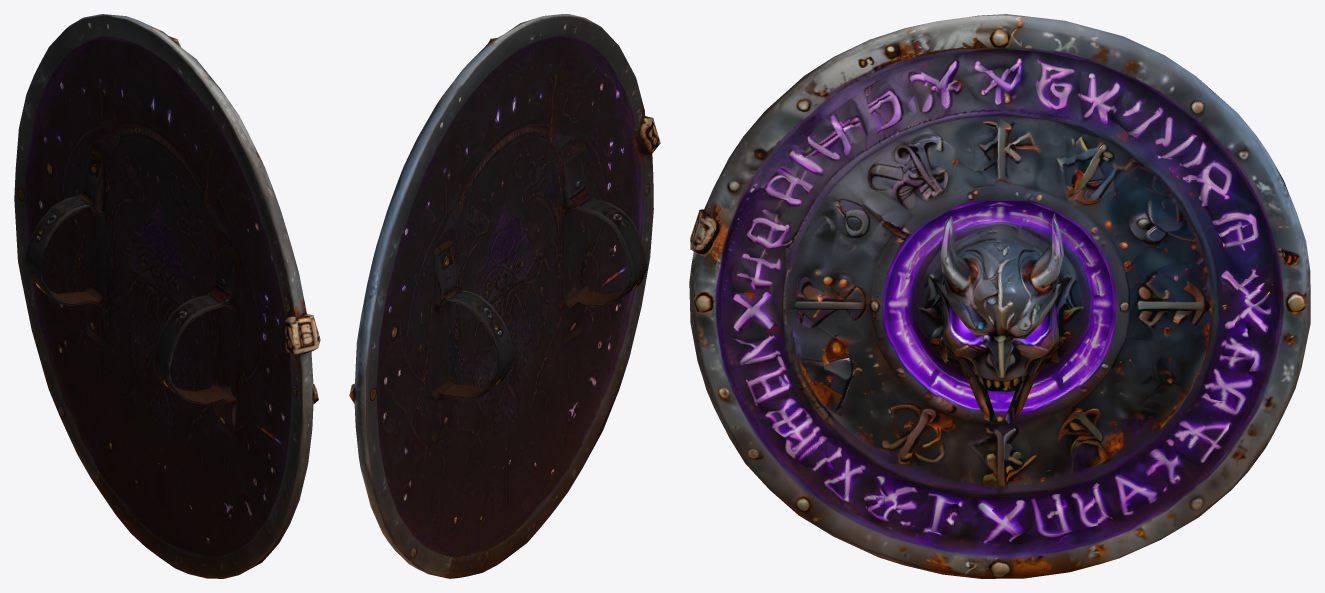
The model's file is demonic+shield+3d+model.obj.
3 renders of one model, left to right at view 1: azimuth 30°, elevation 25°; view 2: azimuth 150°, elevation 25°; view 3: azimuth 270°, elevation 25°, orthographic. The views are drawn at different scales.
Parts seen in each view (by area): view 1: tripo_node_33cd8c42-12d3-48d2-aa2c-d0a549495c33; view 2: tripo_node_33cd8c42-12d3-48d2-aa2c-d0a549495c33; view 3: tripo_node_33cd8c42-12d3-48d2-aa2c-d0a549495c33.
Boxes of the visible parts, <box> form: tripo_node_33cd8c42-12d3-48d2-aa2c-d0a549495c33: <box>14,14,320,578</box>; tripo_node_33cd8c42-12d3-48d2-aa2c-d0a549495c33: <box>349,14,660,578</box>; tripo_node_33cd8c42-12d3-48d2-aa2c-d0a549495c33: <box>689,14,1310,578</box>.
Bounding box in the file's own units: 0.2557 × 1 × 0.9991.
Materials: 1 (1 with a texture image).
